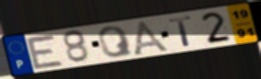2: (200, 11, 234, 45)
8: (61, 29, 91, 65)
A: (131, 19, 172, 56)
E: (24, 33, 66, 71)
Q: (96, 25, 136, 59)
T: (167, 15, 195, 48)
